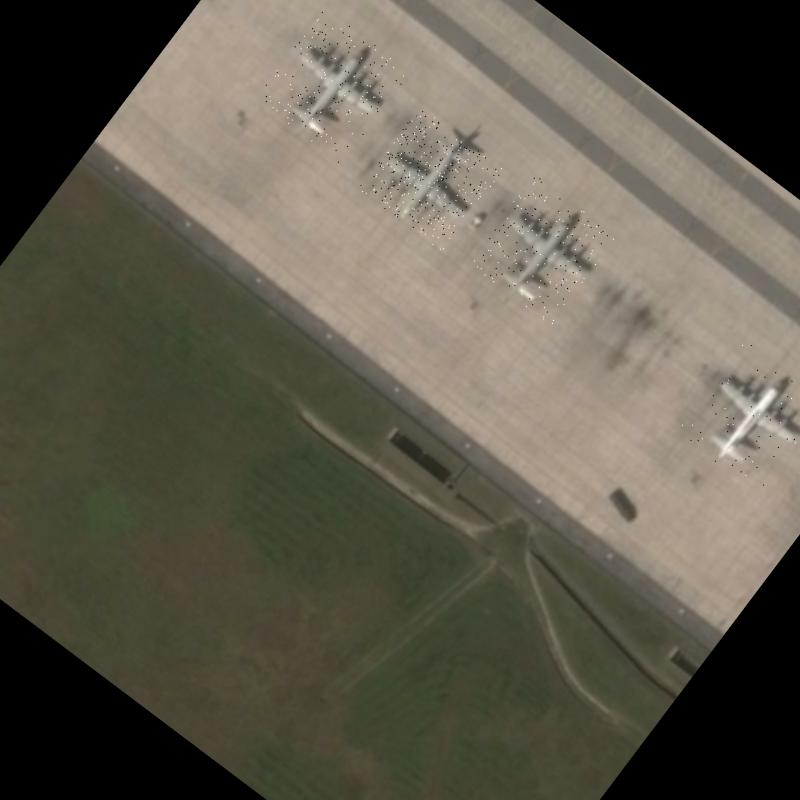A9: (254, 7, 411, 165), (466, 174, 618, 326), (358, 107, 504, 252), (674, 340, 800, 496)
